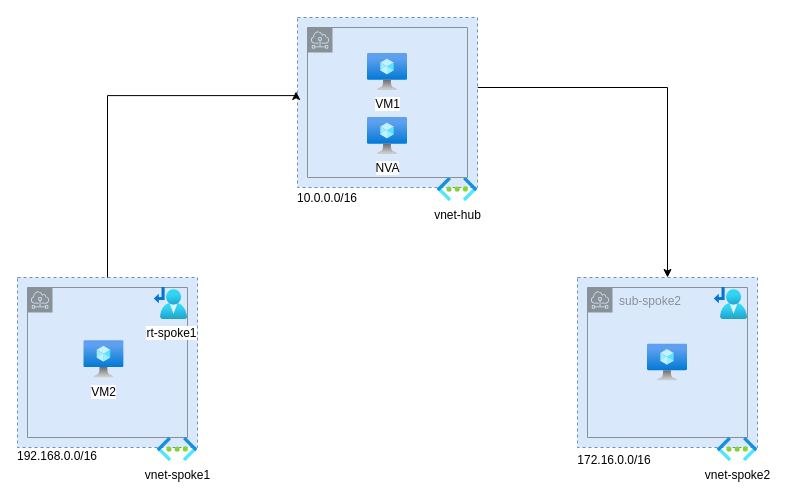
The diagram is 787 pixels wide and 500 high, and some of its shapes have lost their labels. The box of each missing label's shape, as (x1, y1, x2, y2) in pixels:
rt-spoke2: (714, 287, 747, 319)
sub-hub: (306, 26, 468, 178)
sub-spoke1: (26, 286, 188, 438)
VM3: (647, 343, 687, 380)
